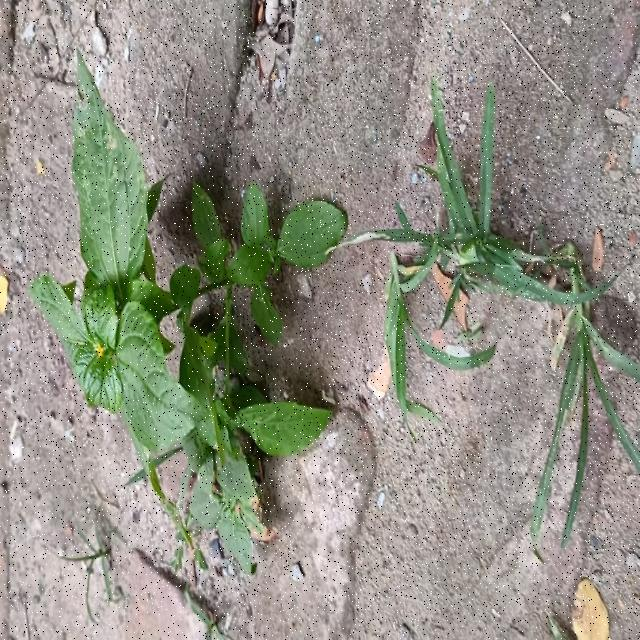weed: (29, 55, 346, 572)
